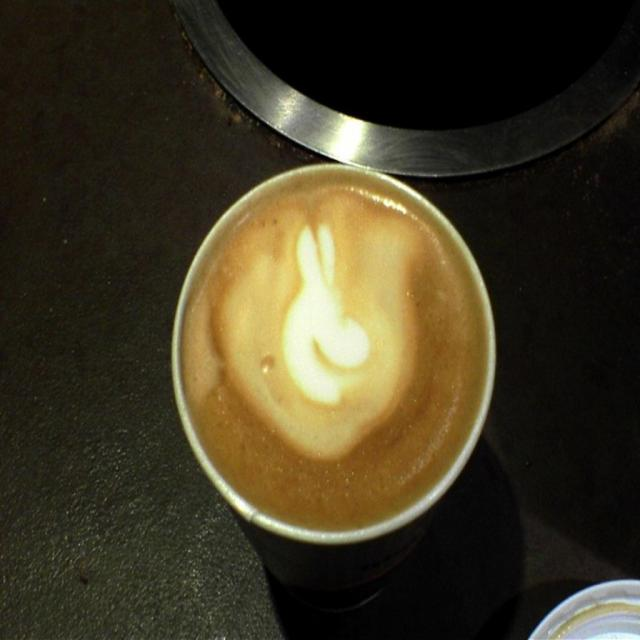Coffee: (178, 175, 492, 530)
